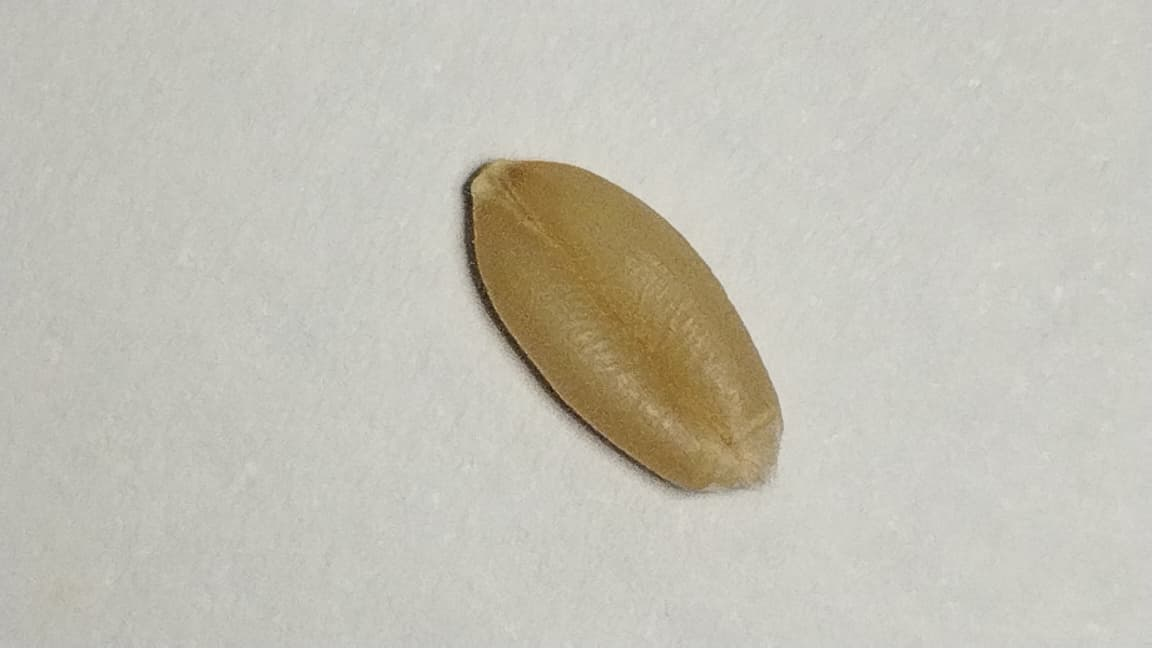healthy: (469, 160, 780, 488)
